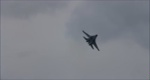maybay_muctieu: (81, 28, 100, 52)
